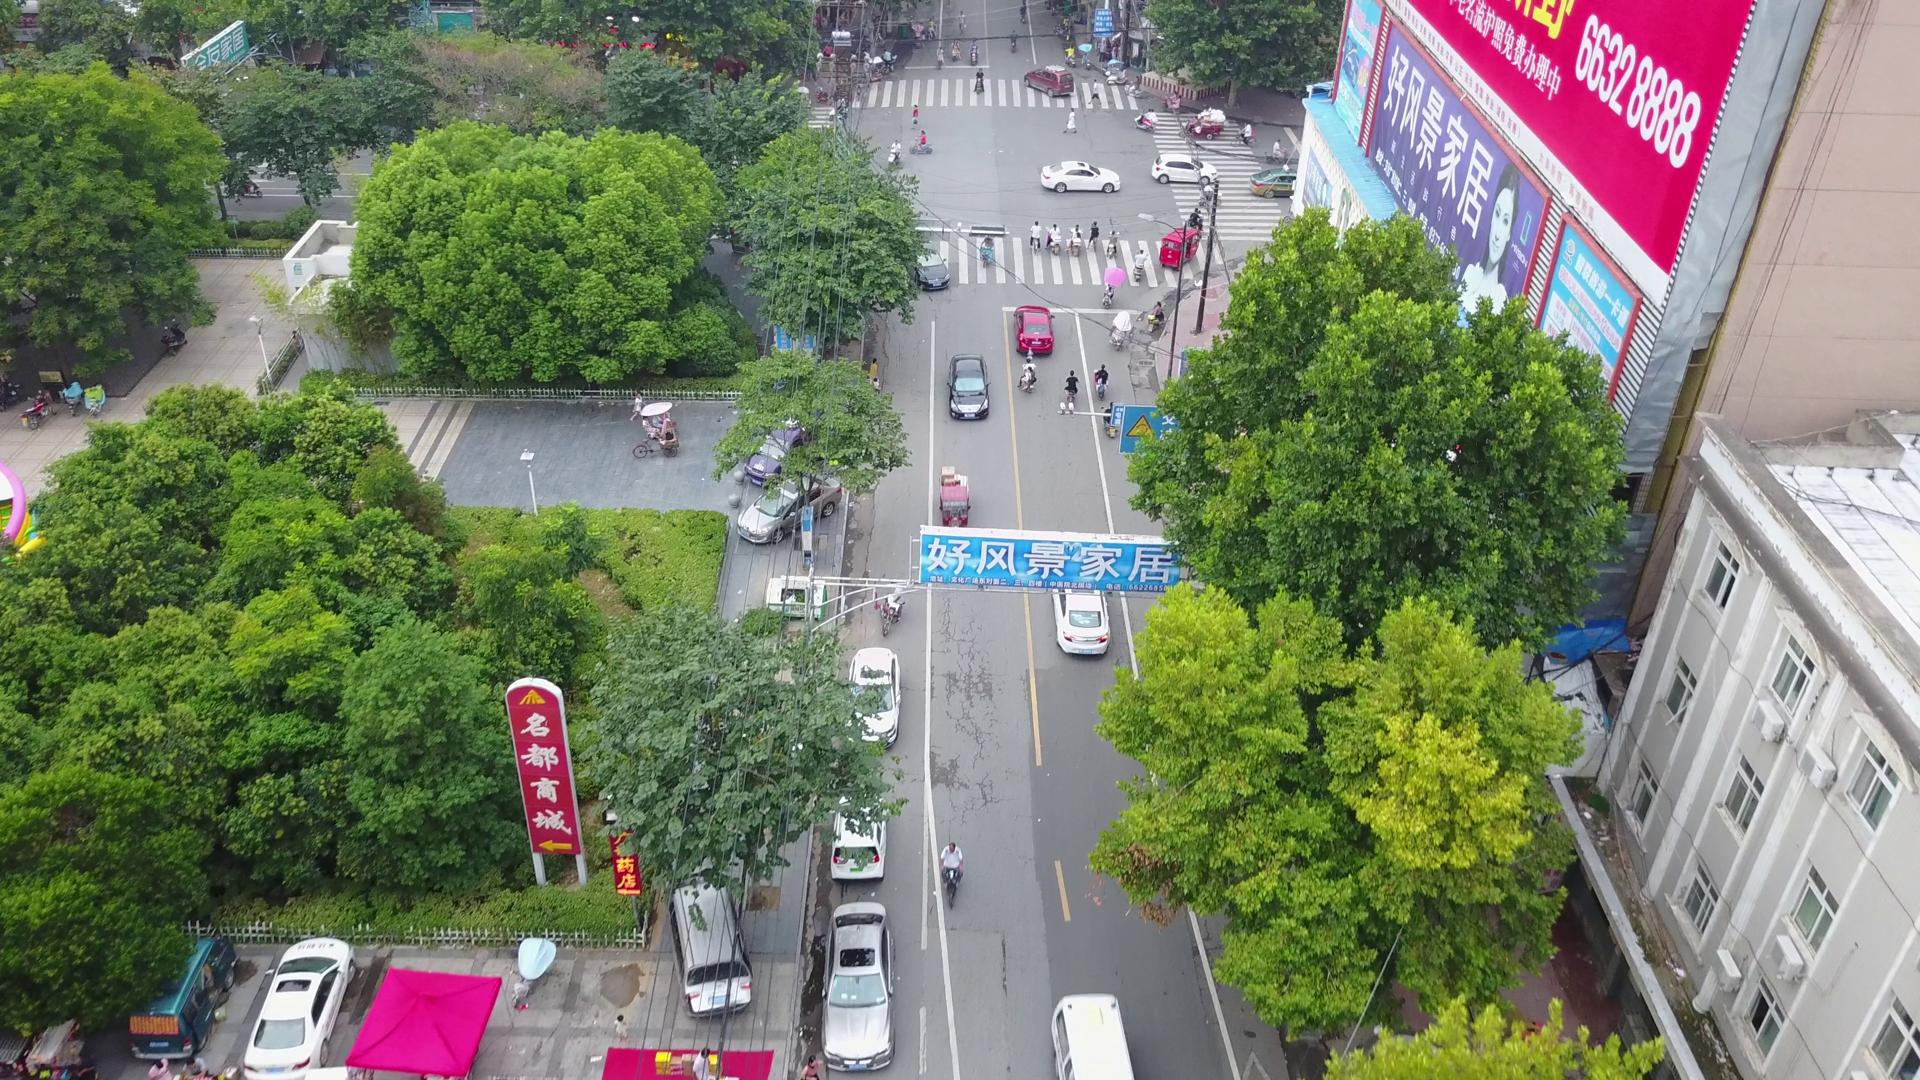awning-tricycle: (937, 464, 972, 528), (1159, 226, 1203, 269)
bicycle: (1231, 132, 1260, 149)
car: (242, 936, 354, 1080), (664, 868, 755, 1019), (818, 901, 894, 1072), (1047, 991, 1137, 1080), (735, 472, 841, 543), (1048, 552, 1111, 657), (742, 419, 828, 482), (847, 648, 900, 749), (829, 796, 891, 881), (889, 237, 951, 291), (945, 353, 990, 421), (1039, 160, 1120, 192), (1011, 305, 1055, 355), (1249, 167, 1318, 199), (1150, 154, 1217, 184), (1022, 65, 1075, 97)
ignored regions: (795, 5, 1131, 63)
motor: (14, 386, 51, 431), (160, 320, 190, 359), (880, 594, 904, 637), (59, 375, 82, 418), (940, 868, 962, 909), (82, 383, 106, 420), (1135, 114, 1158, 133), (1104, 69, 1129, 86), (977, 246, 996, 269), (908, 137, 932, 154), (1263, 151, 1295, 164), (1124, 81, 1143, 98), (886, 145, 901, 168), (1103, 422, 1120, 441), (1161, 99, 1181, 113), (1028, 238, 1043, 254), (1147, 316, 1161, 335), (1068, 241, 1082, 257), (1101, 290, 1113, 309), (1111, 333, 1124, 352), (1105, 244, 1118, 260), (1049, 241, 1063, 255), (1131, 268, 1145, 282), (1094, 386, 1108, 399), (1088, 238, 1099, 253), (975, 77, 983, 94)
pedestrian: (611, 1014, 632, 1043), (629, 392, 647, 422), (1087, 78, 1102, 106), (1063, 107, 1077, 134), (868, 356, 879, 389), (909, 104, 920, 130), (872, 378, 880, 396)
people: (940, 842, 963, 882), (1098, 401, 1119, 425), (1063, 371, 1079, 395), (1019, 367, 1036, 389), (1271, 139, 1287, 159), (1095, 365, 1109, 387), (1049, 222, 1062, 244), (1144, 106, 1160, 124), (1088, 221, 1101, 243), (1134, 247, 1147, 268), (1237, 121, 1253, 138), (1169, 91, 1186, 107), (1030, 220, 1042, 242), (1071, 224, 1083, 247), (1106, 228, 1120, 248), (1024, 357, 1037, 378), (982, 235, 995, 252), (974, 68, 984, 92), (889, 140, 901, 157), (1152, 300, 1163, 319), (916, 130, 926, 150), (1129, 76, 1139, 94)
tricycle: (1181, 107, 1228, 146), (631, 426, 679, 458)
van: (126, 931, 239, 1061)
